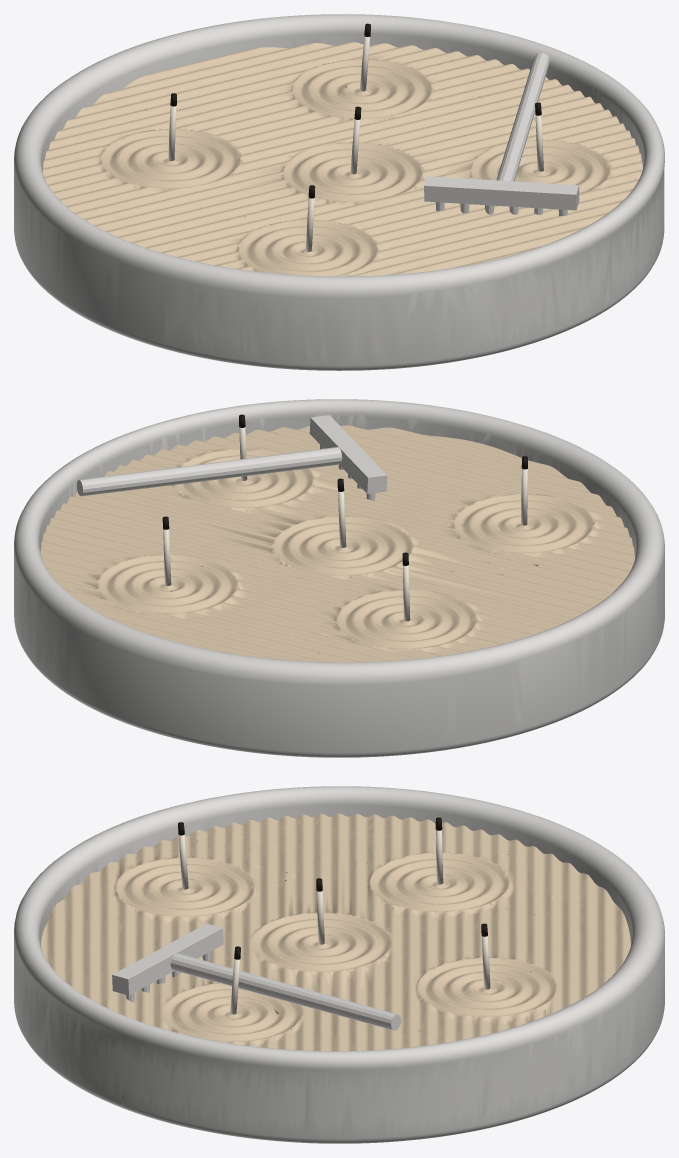
The model's file is jardim.glb.
The picture shows the model from 3 angles, top to bottom: view 1: azimuth 30°, elevation 25°; view 2: azimuth 150°, elevation 25°; view 3: azimuth 270°, elevation 25°; orthographic projection.
Parts seen in each view (by area): view 1: Areia, Jardim, Pavio0; view 2: Areia, Jardim, Pavio0; view 3: Areia, Jardim, Pavio0.
Boxes of the visible parts, box(x1,y1,x2,y2) form: Areia: box(43, 42, 642, 276); Jardim: box(14, 14, 664, 370); Pavio0: box(168, 36, 543, 251); Areia: box(40, 425, 634, 662); Jardim: box(14, 399, 664, 757); Pavio0: box(163, 427, 527, 621); Areia: box(41, 813, 630, 1051); Jardim: box(14, 786, 664, 1143); Pavio0: box(178, 830, 490, 1014).
Size of the model in its own units: 0.2201 by 0.05 by 0.22.
